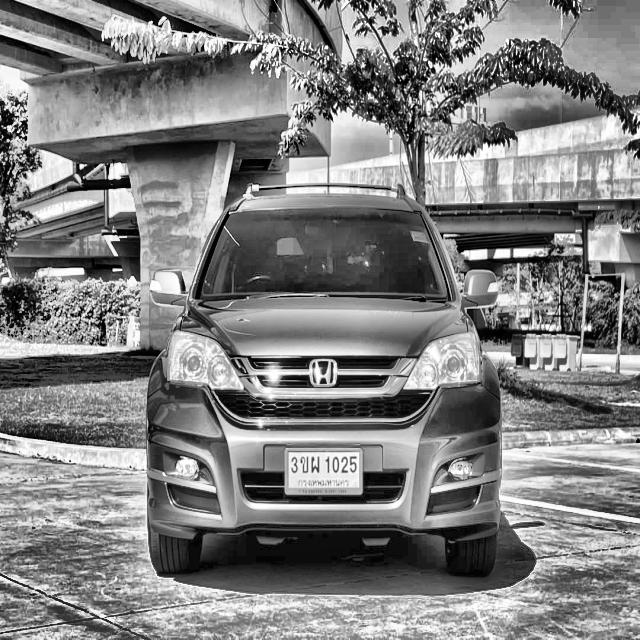license-plate: (280, 444, 368, 501)
